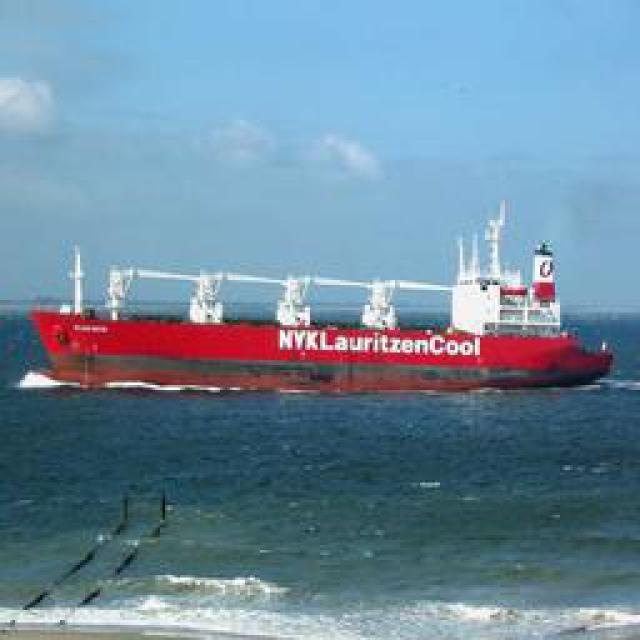Ship: (25, 241, 623, 391)
